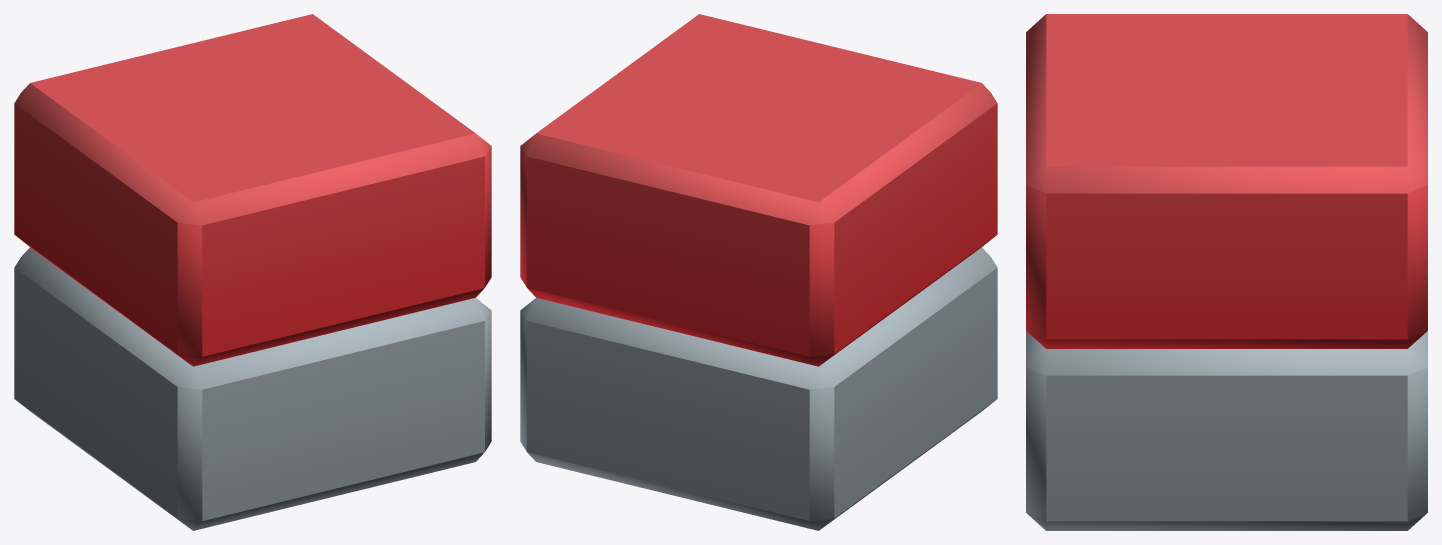
The model's file is kaykit_platform_1x1x1_red.glb.
The picture shows the model from 3 angles, left to right: view 1: azimuth 30°, elevation 25°; view 2: azimuth 150°, elevation 25°; view 3: azimuth 270°, elevation 25°; orthographic projection. The views are drawn at different scales.
Visible parts, largest first — view 1: platform_1x1x1_red_visual; view 2: platform_1x1x1_red_visual; view 3: platform_1x1x1_red_visual.
Boxes of the visible parts, x1,y1,x2,y2 form: platform_1x1x1_red_visual: (14,14,491,530); platform_1x1x1_red_visual: (520,14,997,530); platform_1x1x1_red_visual: (1026,14,1427,530).
Size of what is drawn, in the model's own units: 1 by 1 by 1.
1 material, 1 textured.
